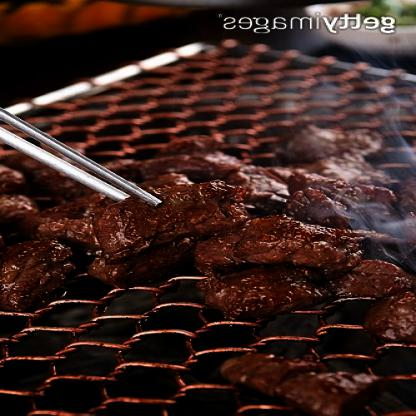Carne: (80, 176, 247, 251), (215, 351, 385, 415), (186, 218, 374, 272), (177, 265, 334, 320), (0, 233, 81, 315), (275, 176, 412, 213), (311, 259, 415, 303), (355, 283, 416, 337), (117, 150, 243, 171)
